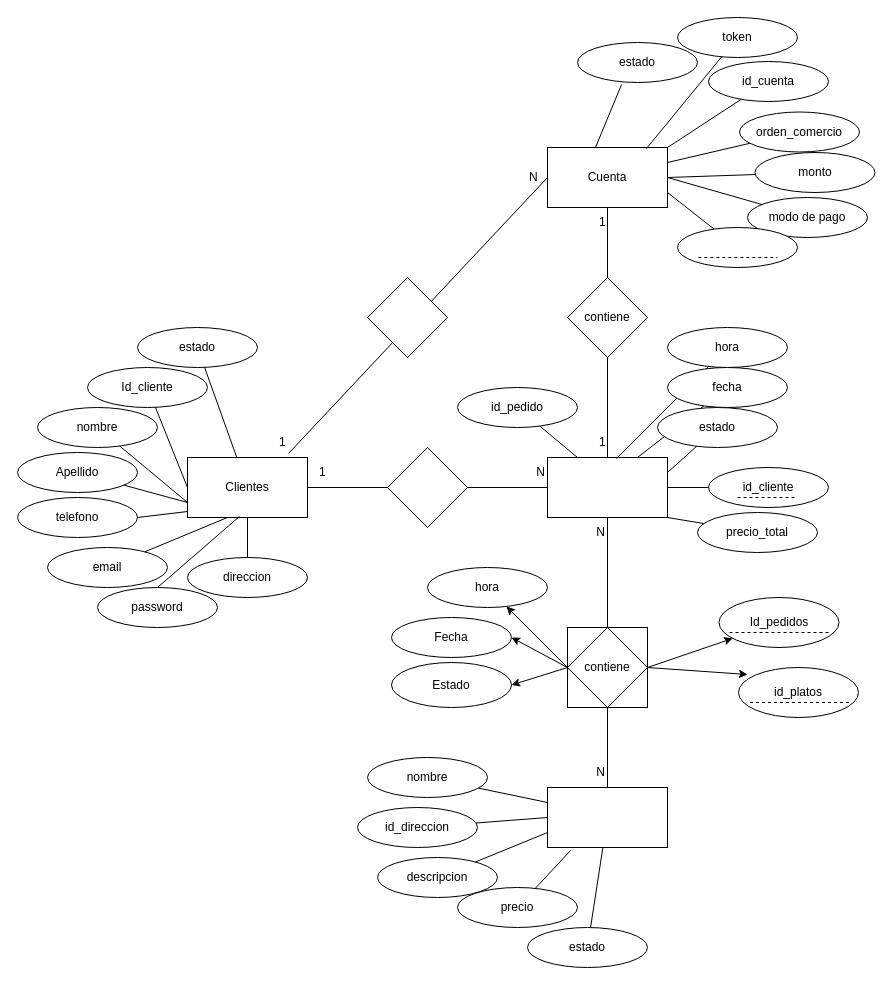
The diagram is 893 pixels wide and 985 high, and some of its shapes have lost their labels. Each missing label, with the box of its shape:
email_cliente: (676, 226, 798, 268)
Paga: (366, 276, 448, 358)
Pedidos: (546, 456, 668, 518)
Platos: (546, 786, 668, 848)
Realiza: (386, 446, 468, 528)
